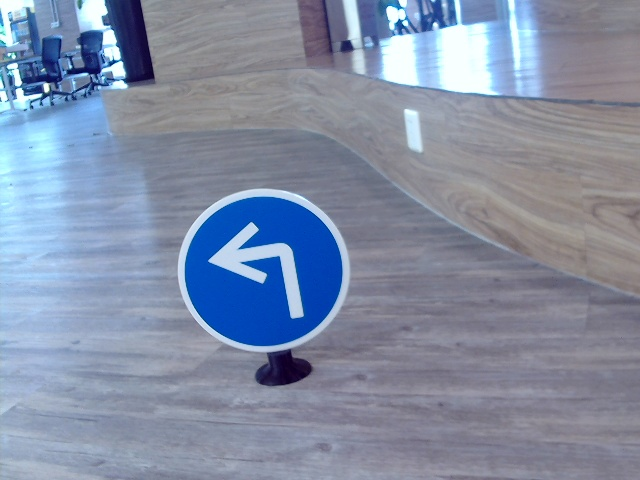turn_left: (205, 217, 311, 322)
